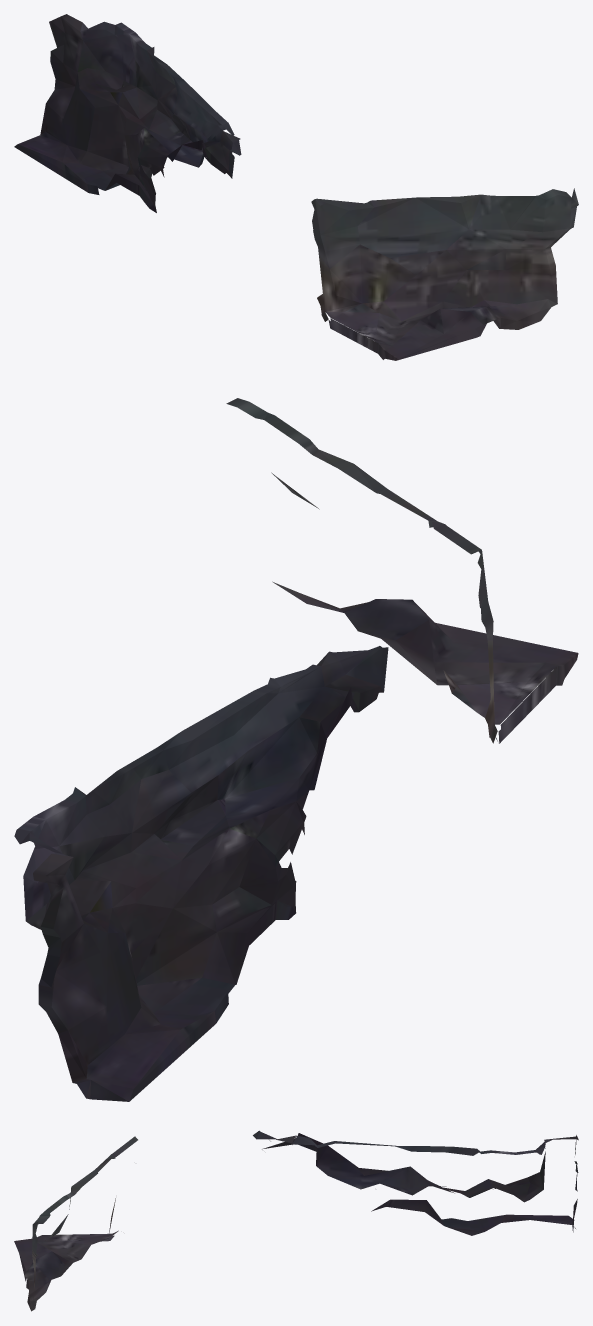
3 views of the same model, one above another, from view 1: azimuth 30°, elevation 25°; view 2: azimuth 150°, elevation 25°; view 3: azimuth 270°, elevation 25° (orthographic). The views are drawn at different scales.
Visible parts, largest first — view 1: Mesh_0; view 2: Mesh_0; view 3: Mesh_0.
Part boxes in pixels (x1,y1,x2,y2): Mesh_0: [14, 14, 578, 360]; Mesh_0: [14, 398, 578, 1101]; Mesh_0: [14, 1130, 578, 1311].
Size of the model in its own units: 17.59 by 8.29 by 38.43.
Materials: 1 (1 with a texture image).
